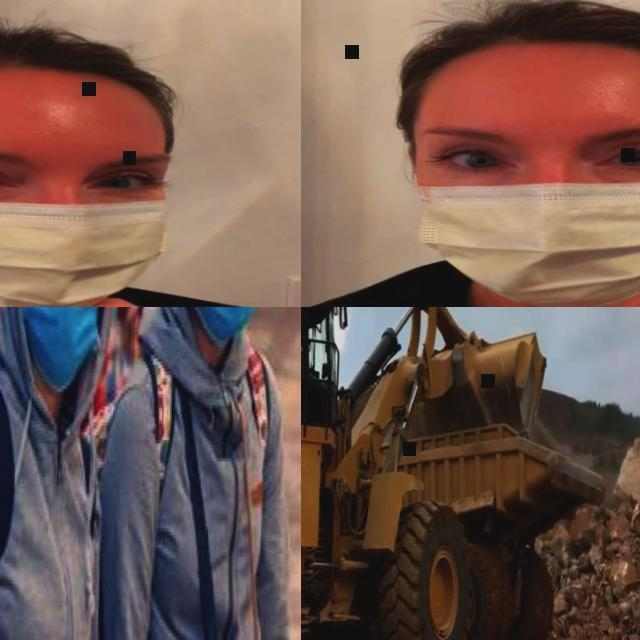machinery: (301, 307, 548, 640), (380, 410, 610, 640)
mask: (401, 150, 640, 307), (0, 148, 165, 307), (19, 307, 110, 390), (192, 307, 266, 349)
no_helmet: (395, 0, 640, 106), (0, 15, 174, 115)
no_vest: (128, 357, 265, 640), (0, 376, 101, 640)
person: (301, 0, 640, 307), (0, 10, 301, 307), (97, 307, 301, 640), (0, 307, 124, 640)
